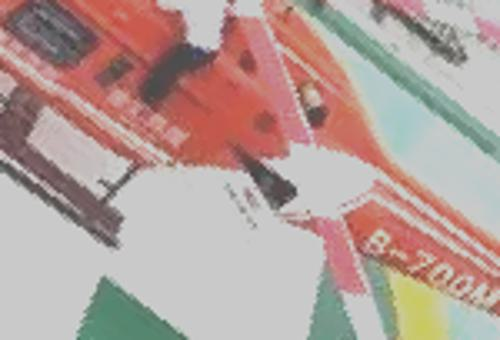Apron: (1, 15, 461, 337)
